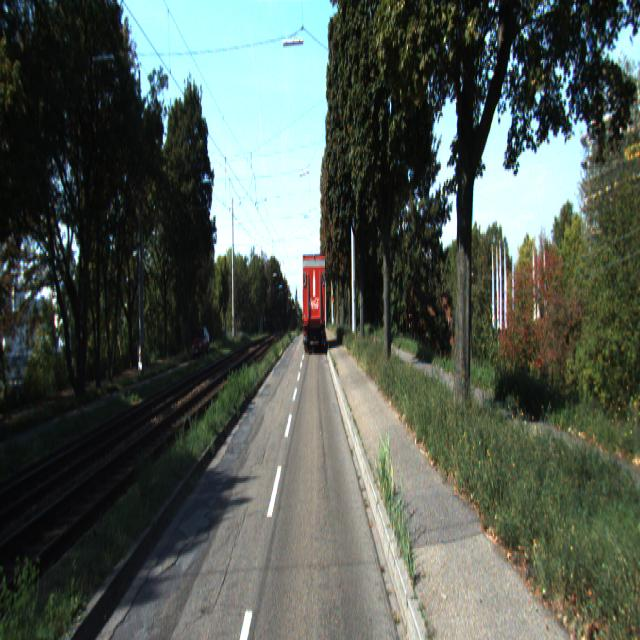Car: (190, 324, 210, 360)
Truck: (300, 249, 326, 352)
